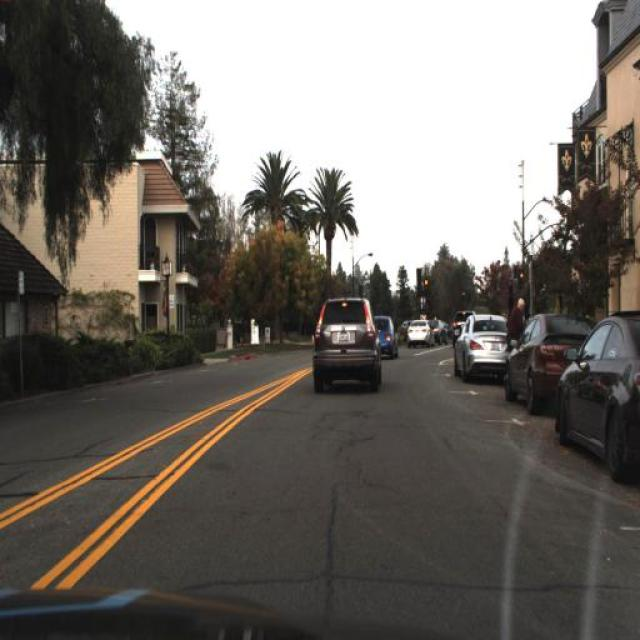car: (556, 310, 640, 488), (504, 313, 594, 412), (310, 297, 381, 389), (450, 308, 518, 381), (366, 316, 398, 362), (405, 319, 434, 349)
trafficLight: (504, 294, 526, 360)
